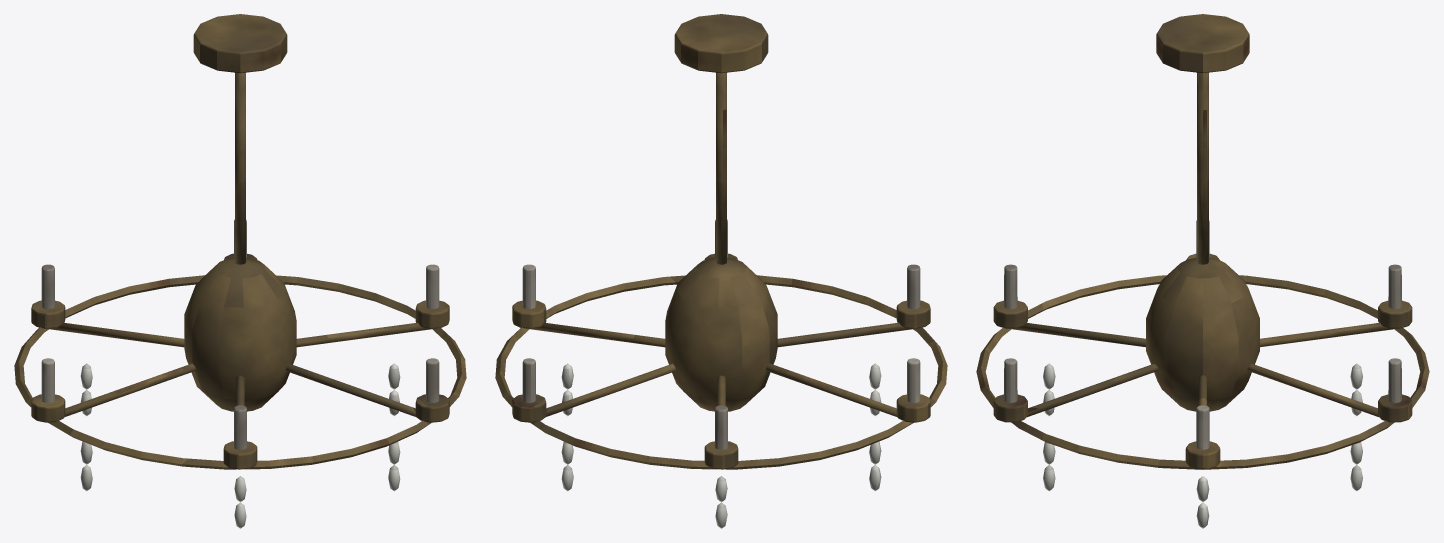
File: U02_chandelier_v1.glb
3 renders of one model, left to right at view 1: azimuth 30°, elevation 25°; view 2: azimuth 150°, elevation 25°; view 3: azimuth 270°, elevation 25°, orthographic.
Visible parts, largest first — view 1: U02_chandelier_v1; view 2: U02_chandelier_v1; view 3: U02_chandelier_v1.
Part boxes in pixels (x1,y1,x2,y2): U02_chandelier_v1: (14,14,466,528); U02_chandelier_v1: (495,14,947,528); U02_chandelier_v1: (976,14,1429,528).
Bounding box in the file's own units: 1 × 0.9732 × 0.9497.
Materials: 3 (3 with a texture image).
